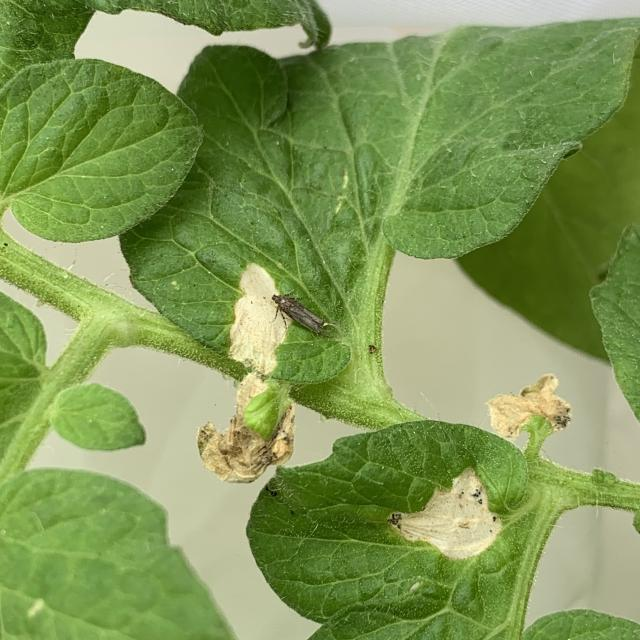Adult: (272, 295, 334, 336)
